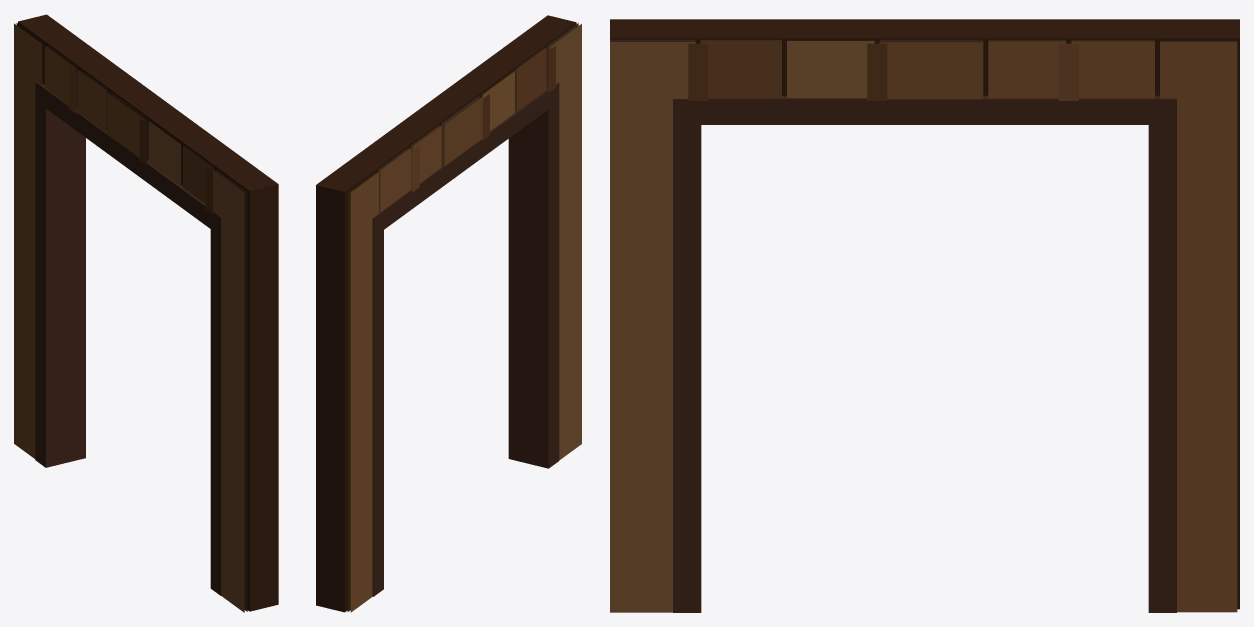
Rendered from wall-timber-doorway.glb.
The picture shows the model from 3 angles, left to right: view 1: azimuth 30°, elevation 25°; view 2: azimuth 150°, elevation 25°; view 3: azimuth 270°, elevation 25°; orthographic projection. The views are drawn at different scales.
Visible parts, largest first — view 1: wall-timber-doorway; view 2: wall-timber-doorway; view 3: wall-timber-doorway.
Boxes of the visible parts, x1=… form: wall-timber-doorway: x1=14, y1=14, x2=278, y2=612; wall-timber-doorway: x1=316, y1=15, x2=581, y2=612; wall-timber-doorway: x1=610, y1=19, x2=1239, y2=612.
Size of the model in its own units: 0.112 by 1 by 1.
